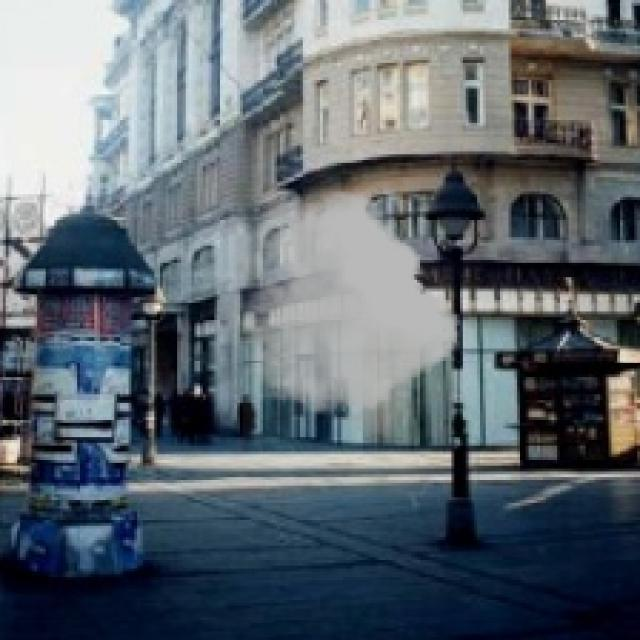Smoke: (243, 186, 460, 443)
